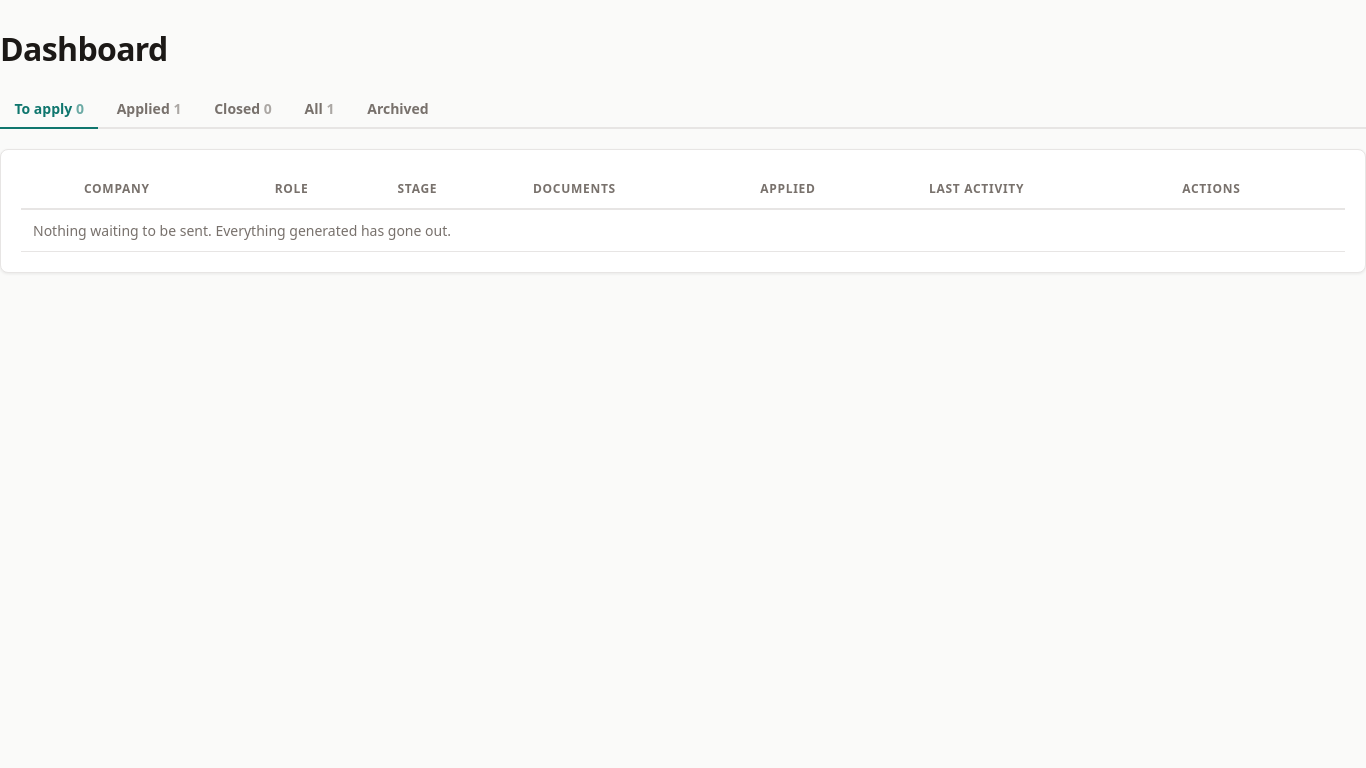
Test case: DashboardScreen › asks for confirmation naming the role before deleting
The width and height of the screenshot is (1366, 768).
Click the button "All 1" at coordinates (320, 109), box [290, 90, 349, 129]
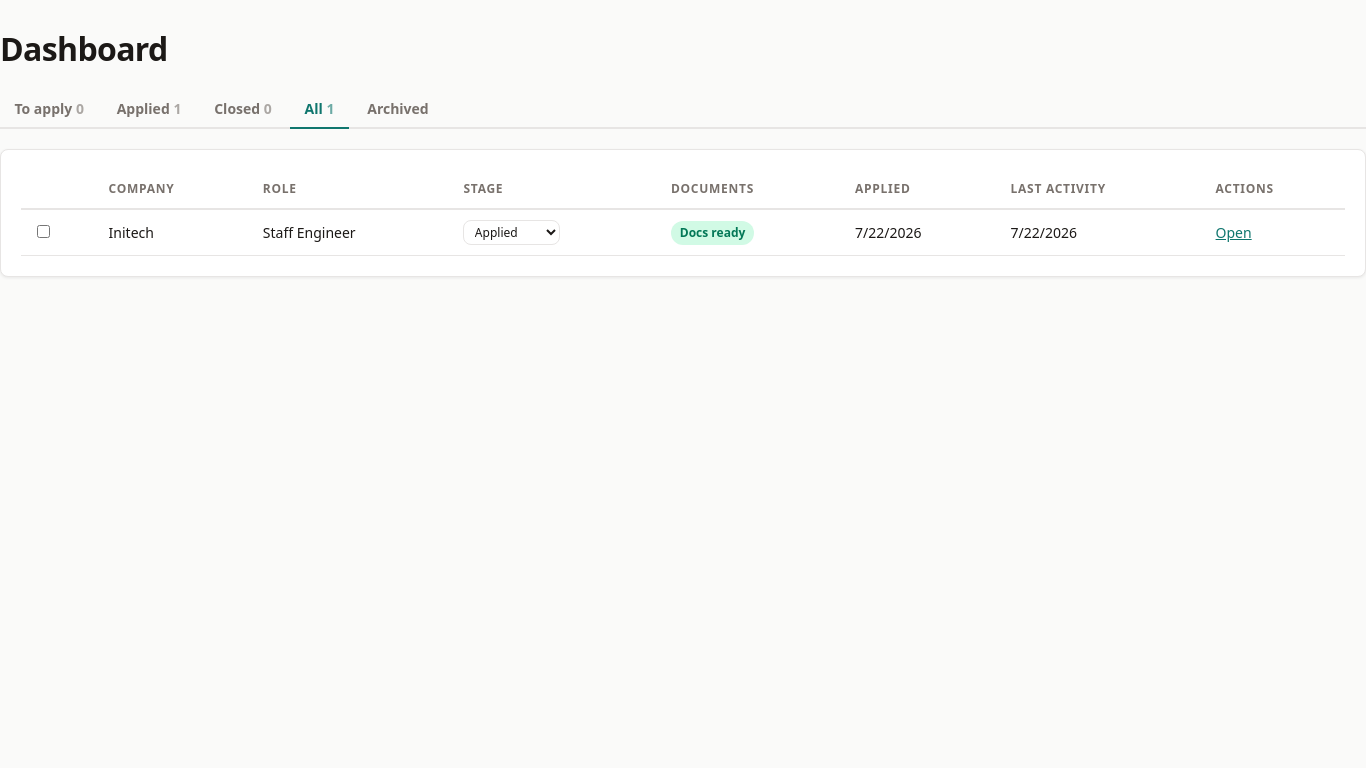
Click the checkbox named "select row 1" at coordinates (44, 231), box [37, 225, 50, 238]
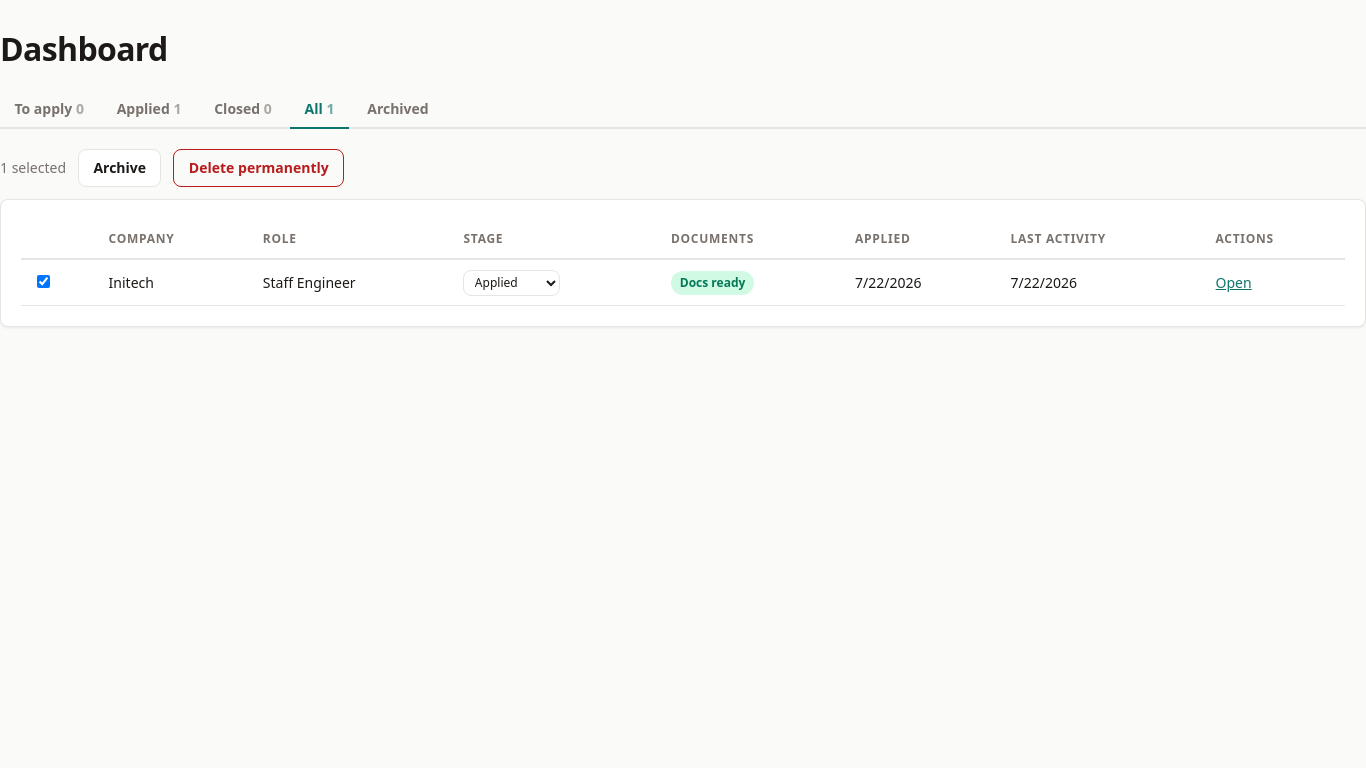
Click the button "Delete permanently" at coordinates (259, 168), box [174, 149, 344, 187]
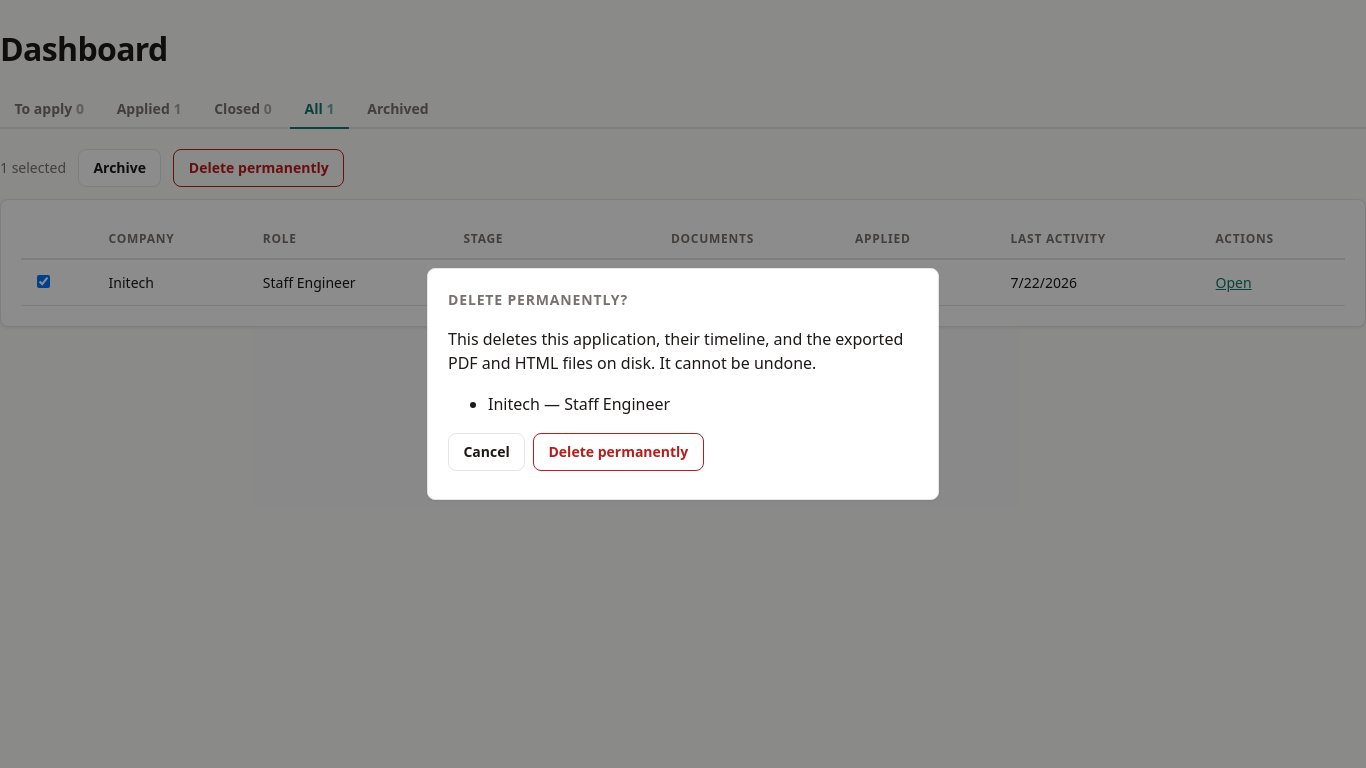
Result: the dialog shows "Initech" at [488, 393, 540, 415]
Result: the dialog shows "Staff Engineer" at [540, 393, 670, 415]
